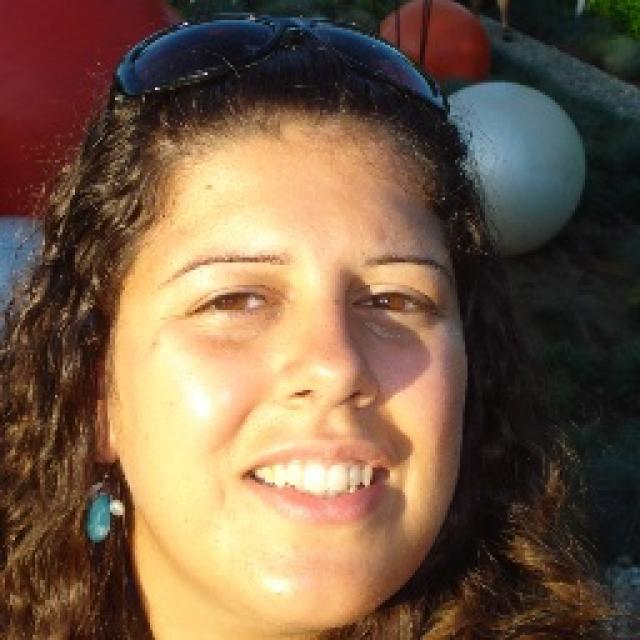earlobe: (80, 410, 120, 467)
eye: (355, 288, 433, 316), (197, 288, 279, 312)
nose: (268, 383, 386, 441)
